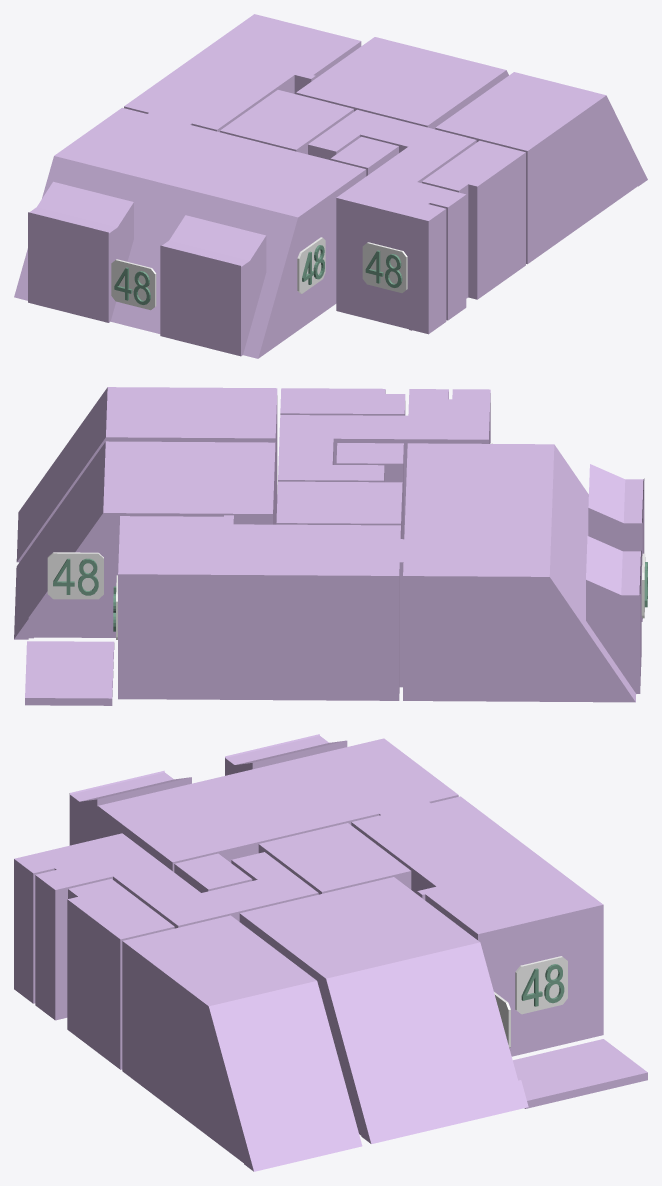
3 views of the same model, one above another, from view 1: azimuth 30°, elevation 25°; view 2: azimuth 150°, elevation 25°; view 3: azimuth 270°, elevation 25° (orthographic). The views are drawn at different scales.
Parts seen in each view (by area): view 1: g_6, g_4, g_2, g_5, g_1, g_0, g_3, g_7, g_23, g_20, g_11; view 2: g_6, g_5, g_1, g_2, g_4, g_8, g_3, g_0, g_17, g_7; view 3: g_1, g_2, g_5, g_6, g_4, g_0, g_3, g_8, g_7, g_14.
Part boxes in pixels (x1=…): g_6: x1=14, y1=107, x2=366, y2=358; g_4: x1=308, y1=109, x2=476, y2=334; g_2: x1=435, y1=72, x2=647, y2=264; g_5: x1=124, y1=14, x2=361, y2=132; g_1: x1=296, y1=37, x2=508, y2=129; g_0: x1=422, y1=140, x2=525, y2=299; g_3: x1=220, y1=90, x2=353, y2=154; g_7: x1=330, y1=136, x2=398, y2=176; g_23: x1=362, y1=242, x2=407, y2=292; g_20: x1=111, y1=259, x2=156, y2=310; g_11: x1=297, y1=237, x2=325, y2=293; g_6: x1=401, y1=443, x2=644, y2=702; g_5: x1=118, y1=515, x2=402, y2=700; g_1: x1=14, y1=441, x2=275, y2=639; g_2: x1=16, y1=387, x2=277, y2=562; g_4: x1=278, y1=389, x2=490, y2=538; g_8: x1=25, y1=641, x2=114, y2=705; g_3: x1=276, y1=481, x2=402, y2=538; g_0: x1=280, y1=388, x2=405, y2=415; g_17: x1=47, y1=552, x2=103, y2=599; g_7: x1=336, y1=443, x2=403, y2=539; g_1: x1=239, y1=877, x2=528, y2=1144; g_2: x1=122, y1=915, x2=362, y2=1171; g_5: x1=351, y1=796, x2=603, y2=1056; g_6: x1=69, y1=734, x2=458, y2=871; g_4: x1=14, y1=833, x2=318, y2=1020; g_0: x1=67, y1=879, x2=174, y2=1069; g_3: x1=258, y1=823, x2=411, y2=894; g_8: x1=513, y1=1039, x2=647, y2=1108; g_7: x1=174, y1=853, x2=252, y2=892; g_14: x1=515, y1=956, x2=567, y2=1014.
Size of the model in its own units: 14.04 by 2.71 by 11.21.
